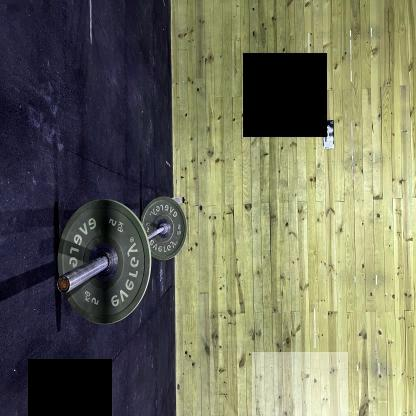barbell: (251, 353, 346, 416)
